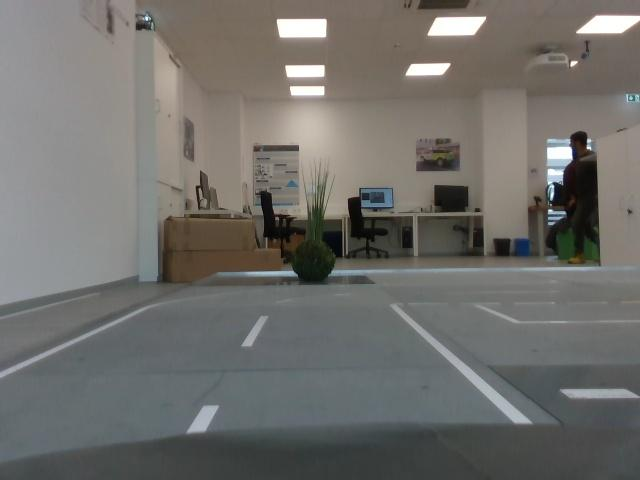potted plant: (297, 158, 336, 237), (295, 240, 336, 282)
